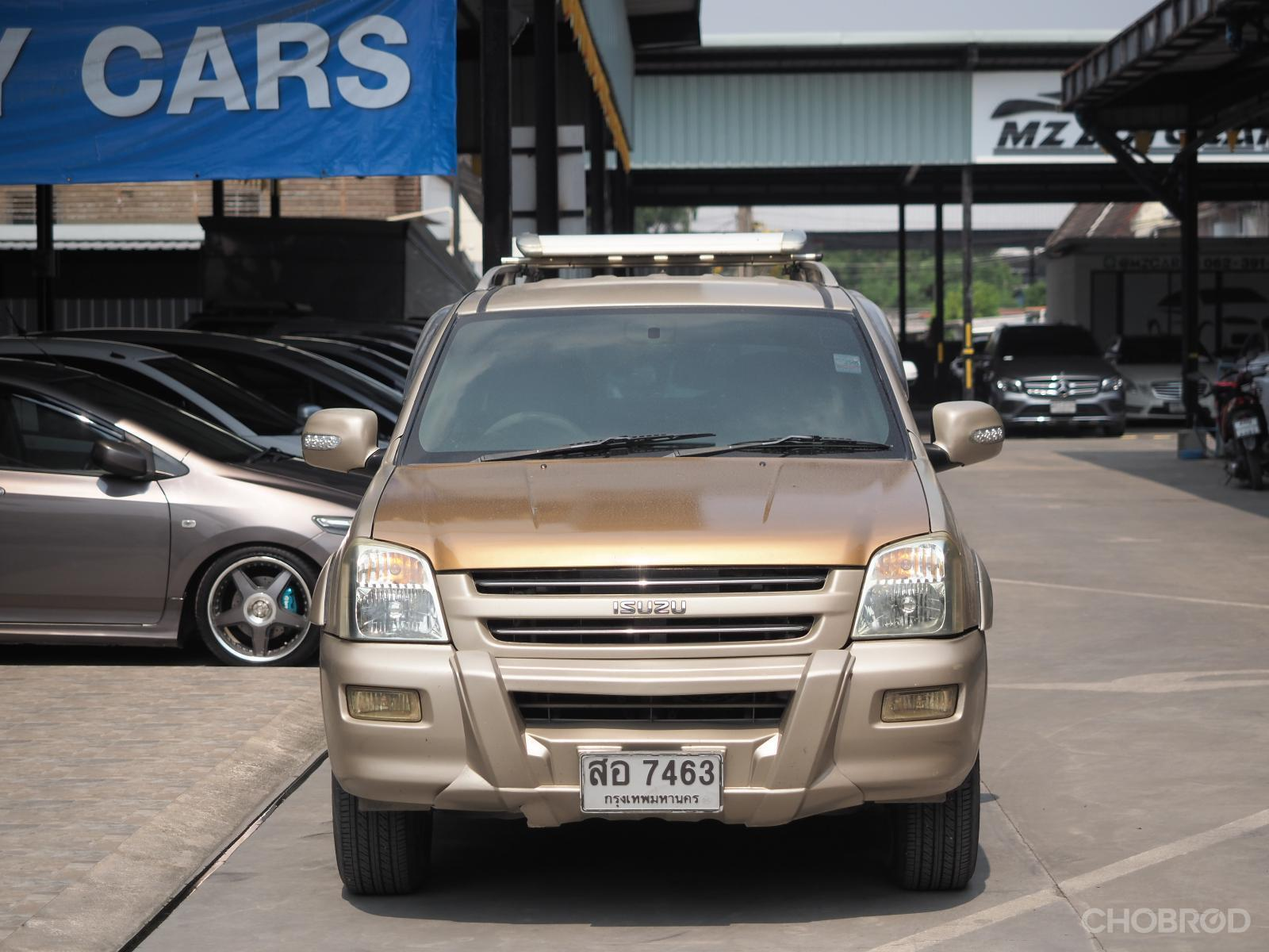license-plate: (578, 739, 726, 821), (1232, 415, 1266, 442), (1050, 397, 1078, 417), (1164, 397, 1189, 416)
